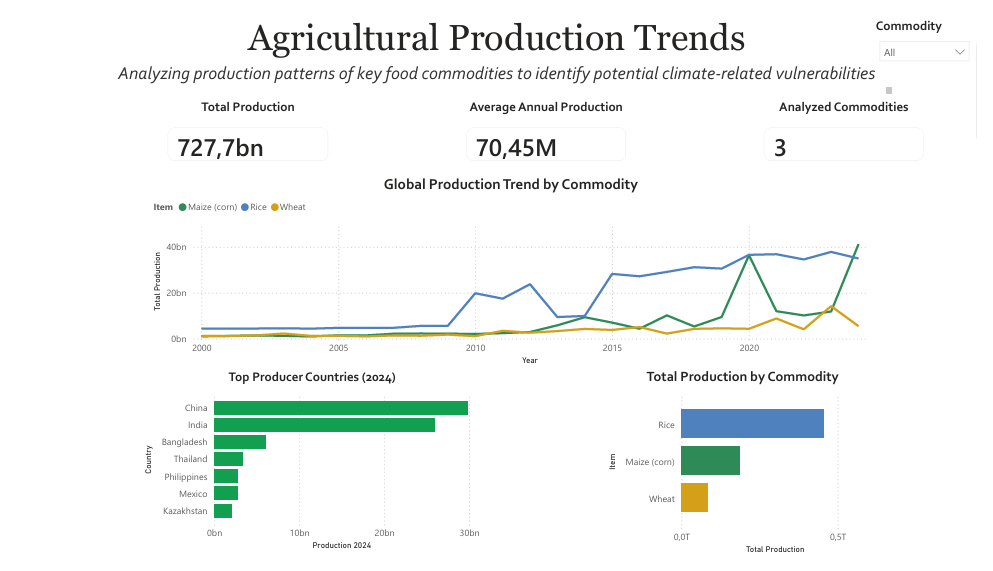

The dashboard page shown, as its layout file describes it:
{"tool":"powerbi","page":{"name":"Agricultural_Production","canvas":[1280,720],"ordinal":3},"visuals":[{"type":"textbox","title":"Agricultural Production Trends","box":[106.7,0,1066.7,108.3],"z":0},{"type":"lineChart","title":"Global Production Trend by Commodity","fields":{"Category":["DimDate.Year"],"Y":["KPI.Total Production"],"Series":["DimCommodity.Item"]},"box":[176.7,210,963.3,258.3],"z":2000},{"type":"barChart","title":"Top Producer Countries (2024)","fields":{"Category":["DimCountry.Country"],"Y":["KPI.Production 2024"]},"box":[165,468.3,456.7,246.7],"z":3000},{"type":"cardVisual","title":"Total Production","fields":{"Data":["KPI.Total Production"]},"box":[184.4,108.3,247.3,101],"z":4000},{"type":"cardVisual","title":"Average Annual Production","fields":{"Data":["KPI.Average Production"]},"box":[581.7,108.3,247.3,101],"z":5000},{"type":"cardVisual","title":"Analyzed Commodities","fields":{"Data":["KPI.Number of Commodities"]},"box":[979,108.3,247.3,101],"z":6000},{"type":"barChart","title":"Total Production by Commodity","fields":{"Category":["DimCommodity.Item"],"Y":["KPI.Total Production"]},"box":[783.3,468.3,368.3,251.7],"z":7000},{"type":"slicer","title":"Commodity","fields":{"Values":["DimCommodity.Item"]},"box":[1140,0,140,65],"z":8000}]}

Visuals, with their boxes in screenshot pixels (x1, y1, x2, y2), scaled from the page's 1280x720 canvas onto the 993x571 screenshot:
"Agricultural Production Trends" textbox: 83:0:910:86
"Global Production Trend by Commodity" lineChart: 137:167:884:371
"Top Producer Countries (2024)" barChart: 128:371:482:567
"Total Production" cardVisual: 143:86:335:166
"Average Annual Production" cardVisual: 451:86:643:166
"Analyzed Commodities" cardVisual: 759:86:951:166
"Total Production by Commodity" barChart: 608:371:893:570
"Commodity" slicer: 884:0:992:52
